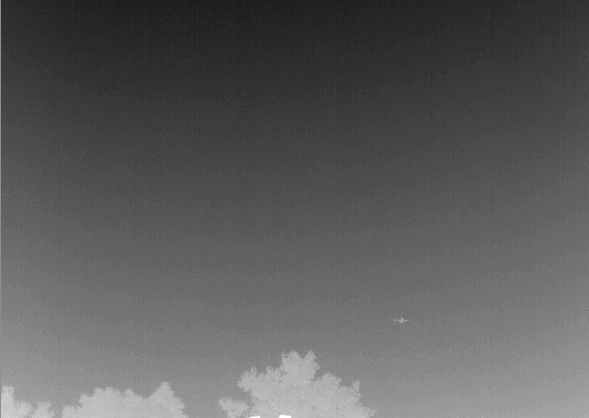dim target: (393, 314, 409, 325)
